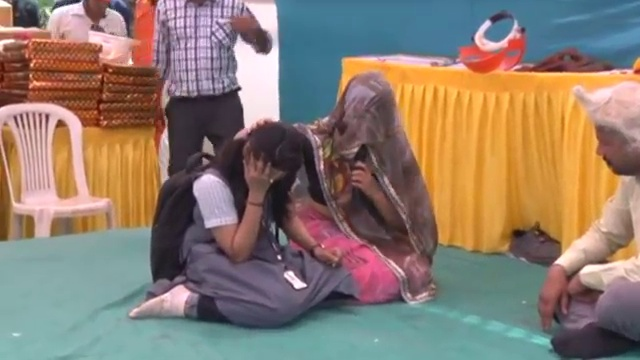helmet: (87, 31, 141, 64)
helmet_off: (573, 79, 639, 174), (232, 120, 310, 196), (331, 68, 395, 140), (82, 0, 111, 18)
person: (125, 118, 354, 325), (288, 66, 437, 306), (537, 76, 640, 357), (151, 0, 270, 177), (47, 0, 127, 39)
